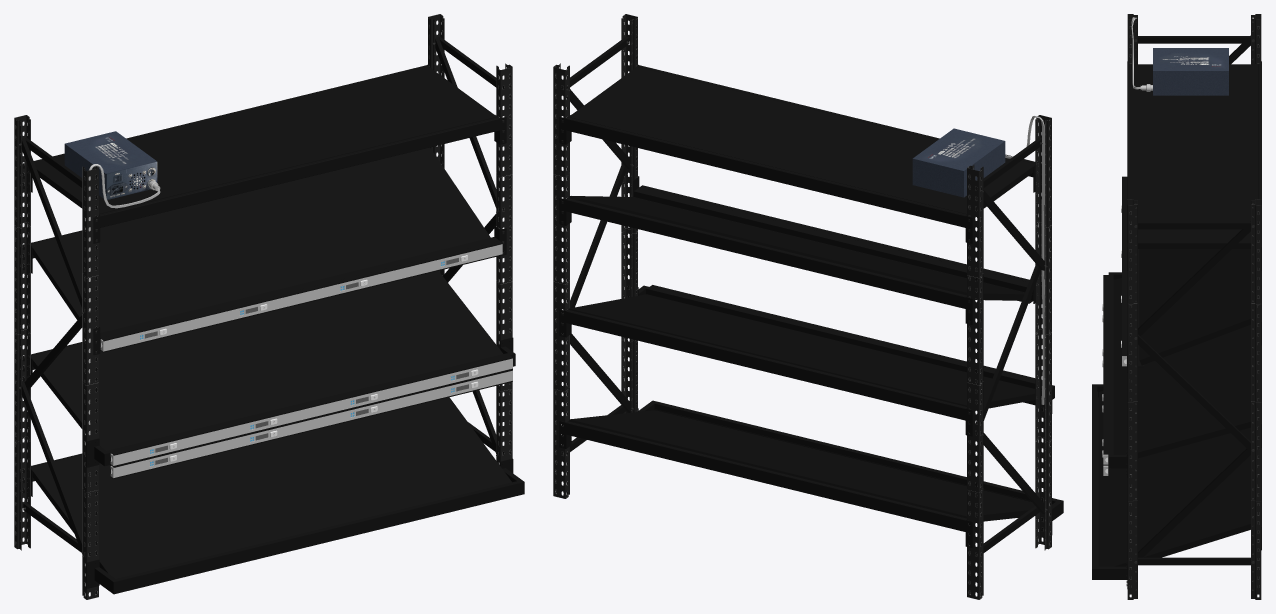
3 renders of one model, left to right at view 1: azimuth 30°, elevation 25°; view 2: azimuth 150°, elevation 25°; view 3: azimuth 270°, elevation 25°, orthographic. The views are drawn at different scales.
Parts seen in each view (by area): view 1: CengBan8, CengBan6, CengBan7, CengBan5, pCube69 (×3), LiZhu9, pCube53 (×2), LiZhu8, LiZhu2, pCube70 (×2), KongZhiQi, pCube107 (×3) (+7 smaller); view 2: pCube53 (×5), CengBan5, CengBan7, CengBan8, pCube69 (×3), CengBan6, LiZhu9, LiZhu8, LiZhu6, KongZhiQi, LiZhu2, pCube70 (×2) (+4 smaller); view 3: CengBan5, CengBan8, CengBan7, CengBan6, LiZhu2, LiZhu6, KongZhiQi, pCube69 (×2), pCube70 (×2), pCube53 (×2), XieCheng4, XieCheng5 (+7 smaller).
Part boxes in pixels (box(x1,y1,x2,y2)): CengBan8: box(31, 397, 511, 578); CengBan6: box(31, 147, 490, 332); CengBan7: box(31, 271, 502, 450); CengBan5: box(34, 66, 496, 214); pCube69 (×3): box(94, 237, 524, 594); LiZhu9: box(14, 115, 30, 550); pCube53 (×2): box(33, 65, 499, 227); LiZhu8: box(82, 164, 98, 599); LiZhu2: box(496, 63, 512, 465); pCube70 (×2): box(100, 241, 512, 466); KongZhiQi: box(64, 131, 157, 199); pCube107 (×3): box(369, 259, 449, 412); pCube53 (×5): box(566, 65, 1035, 531); CengBan5: box(569, 67, 1035, 214); CengBan7: box(569, 294, 1038, 410); CengBan8: box(569, 410, 1034, 521); pCube69 (×3): box(634, 187, 1063, 520); CengBan6: box(569, 196, 1031, 300); LiZhu9: box(967, 164, 983, 599); LiZhu8: box(1035, 115, 1051, 550); LiZhu6: box(553, 63, 569, 498); KongZhiQi: box(912, 128, 1005, 197); LiZhu2: box(621, 14, 637, 413); pCube70 (×2): box(640, 185, 1038, 380); CengBan5: box(1132, 64, 1257, 248); CengBan8: box(1098, 391, 1250, 566); CengBan7: box(1113, 278, 1250, 458); CengBan6: box(1139, 249, 1250, 365); LiZhu2: box(1127, 199, 1137, 599); LiZhu6: box(1251, 199, 1261, 599); KongZhiQi: box(1153, 48, 1228, 95); pCube69 (×2): box(1092, 272, 1127, 579); pCube70 (×2): box(1103, 176, 1127, 465); pCube53 (×2): box(1127, 64, 1261, 243); XieCheng4: box(1131, 334, 1257, 451); XieCheng5: box(1130, 446, 1258, 560).
Size of the model in its own units: 220 by 212 by 82.46.
